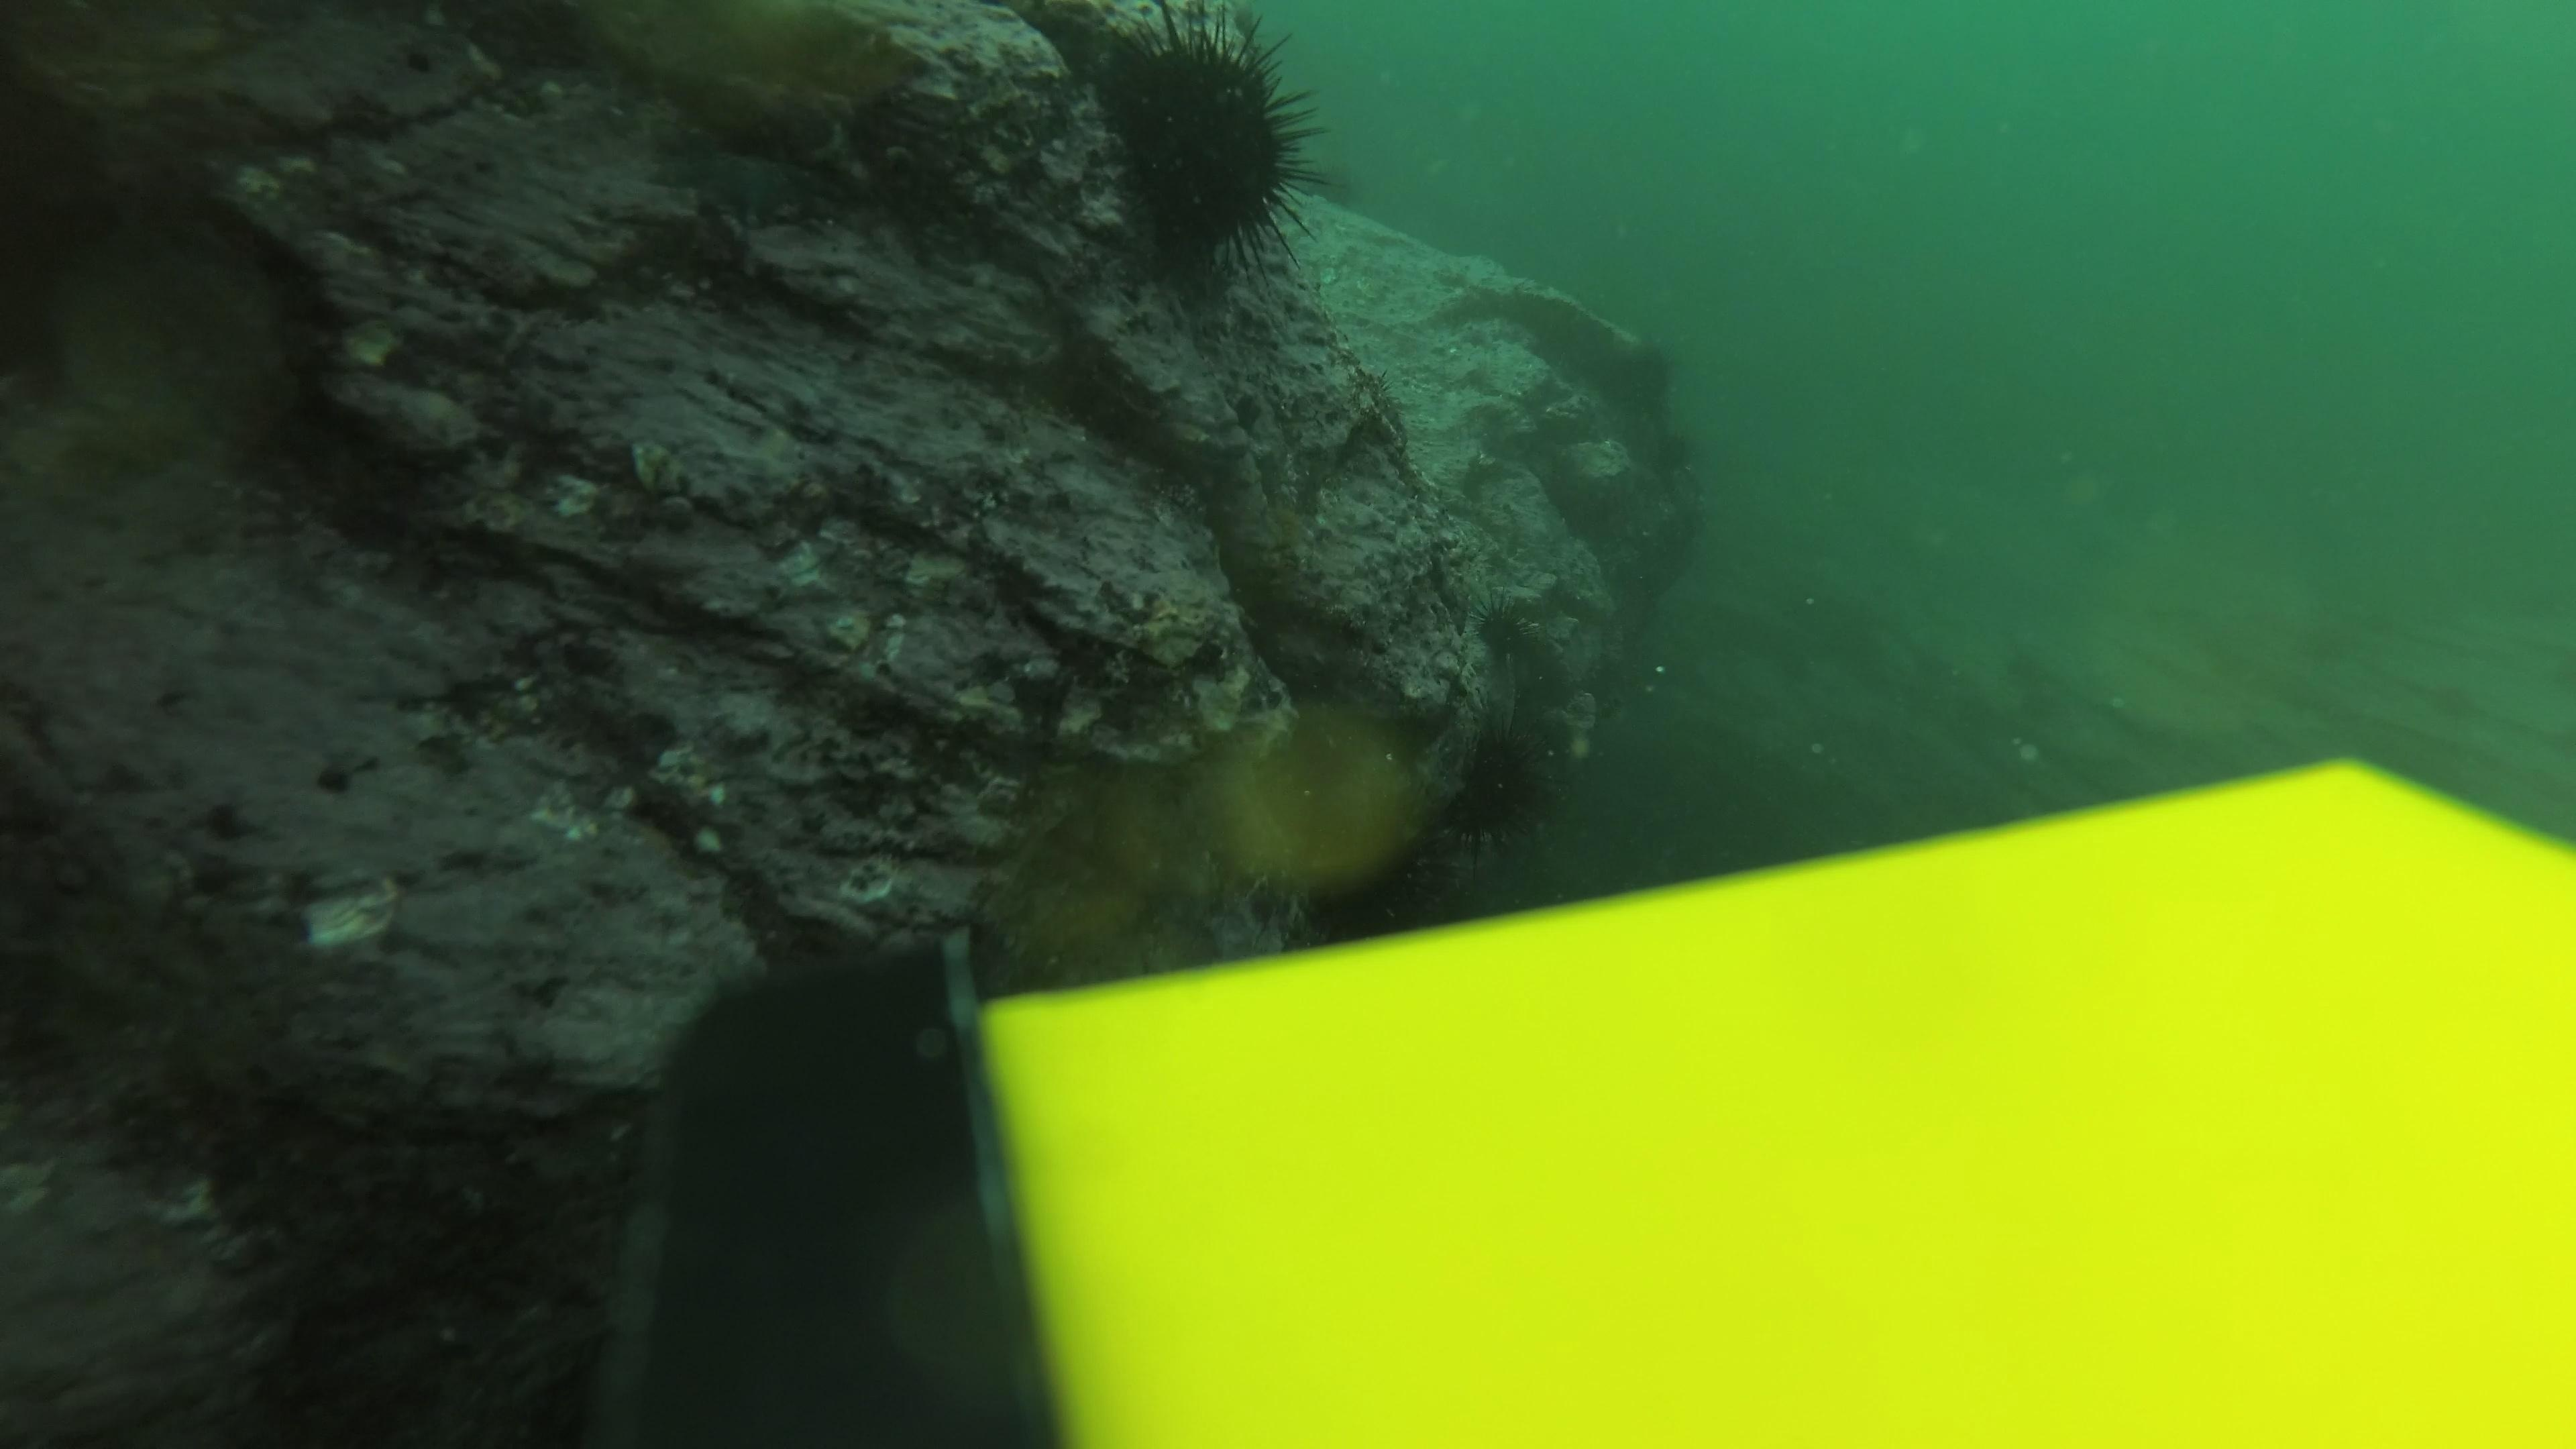echinus: (1081, 7, 1338, 288), (1435, 718, 1557, 846), (1585, 331, 1684, 423)
starfish: (662, 140, 835, 232)
